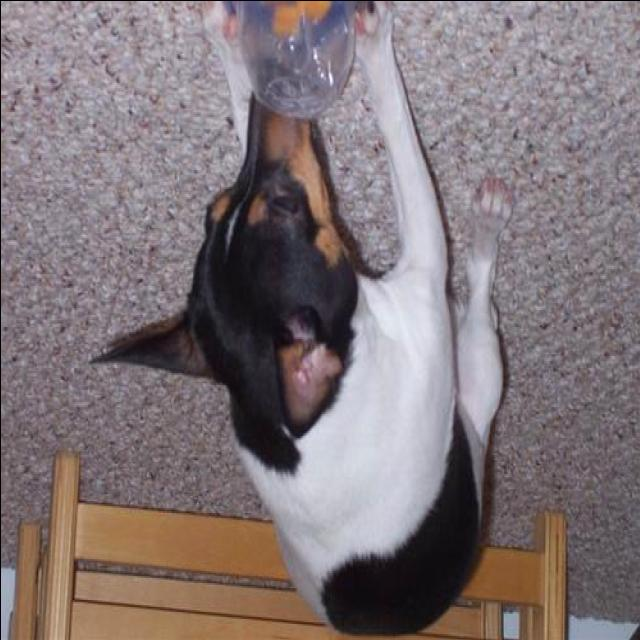toy_terrier: (80, 4, 514, 638)
